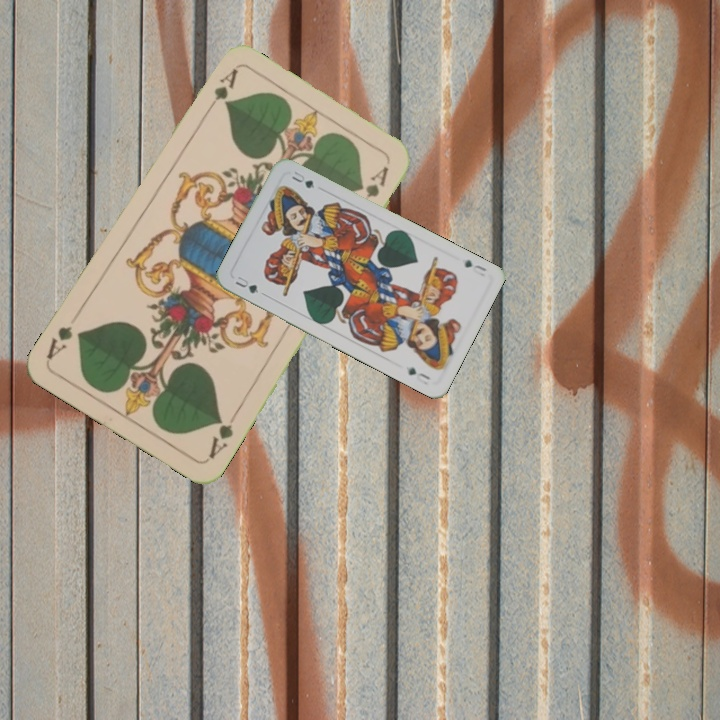GA: (200, 65, 240, 118), (204, 408, 239, 462)
GU: (231, 272, 261, 296), (460, 256, 489, 274)
